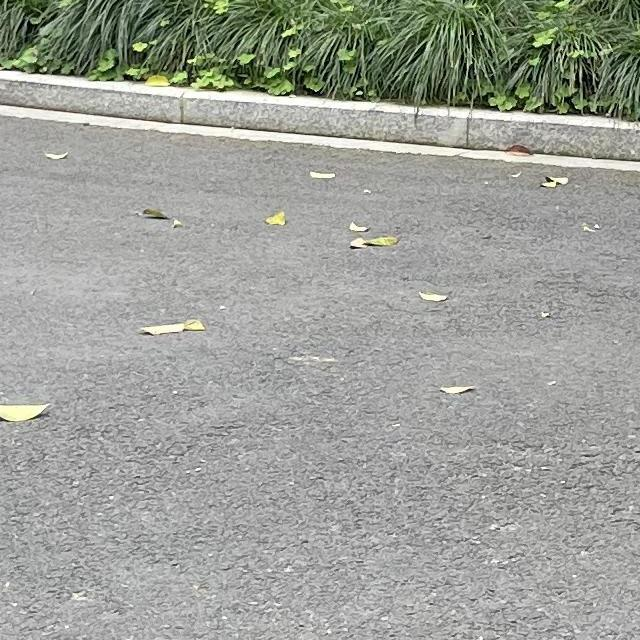curb: (0, 71, 639, 161)
